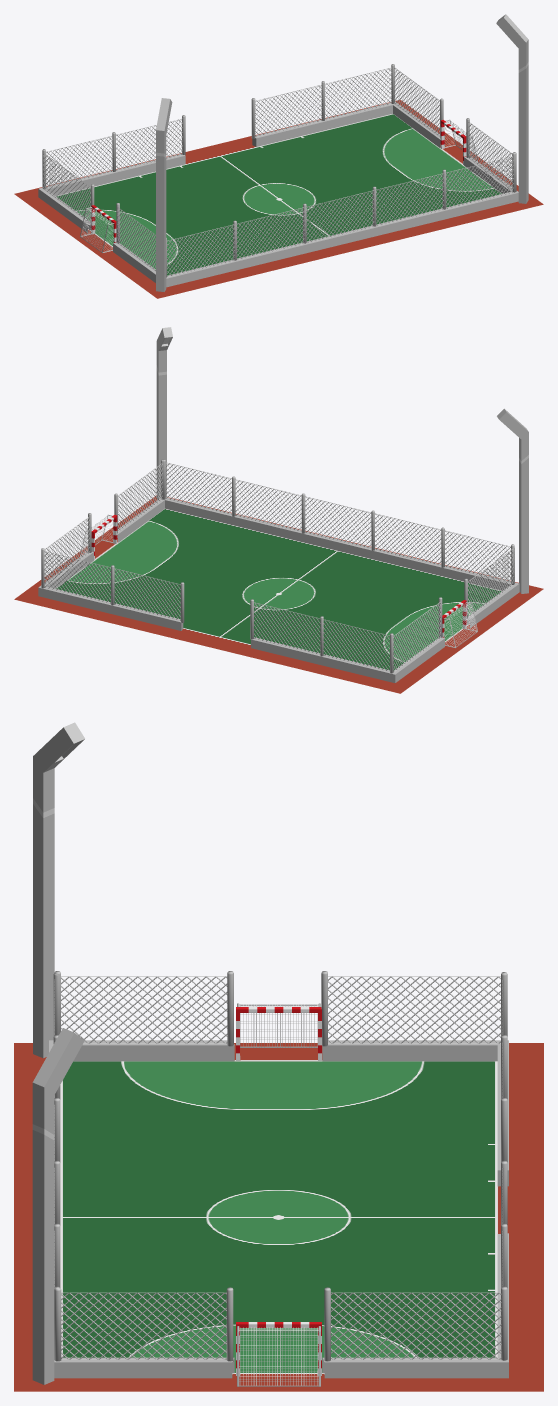
The model's file is Stadium.fbx.
3 renders of one model, top to bottom at view 1: azimuth 30°, elevation 25°; view 2: azimuth 150°, elevation 25°; view 3: azimuth 270°, elevation 25°, orthographic. The views are drawn at different scales.
Visible parts, largest first — view 1: Plane, Plane.001, Plane.003, Plane.006, Cube.008, Cube.007, Plane.007, Plane.004, Plane.002, Plane.005, Cylinder.001, Cylinder (+1 smaller); view 2: Plane, Plane.001, Plane.003, Plane.006, Cube.007, Cube.008, Plane.007, Plane.005, Plane.002, Plane.004, Cylinder.001, Cylinder (+1 smaller); view 3: Plane, Plane.001, Cube.008, Cube.007, Plane.004, Plane.007, Plane.002, Plane.005, Cube.004, Cylinder.001, Cube.001, Cylinder (+2 smaller).
Part boxes in pixels (left/top/right/bottom): Plane: left=14, top=100, right=543, bottom=298; Plane.001: left=38, top=101, right=518, bottom=287; Plane.003: left=167, top=156, right=513, bottom=277; Plane.006: left=46, top=67, right=391, bottom=187; Cube.008: left=496, top=14, right=528, bottom=203; Cube.007: left=156, top=98, right=172, bottom=291; Plane.007: left=43, top=153, right=90, bottom=222; Plane.004: left=394, top=68, right=439, bottom=136; Plane.002: left=468, top=122, right=512, bottom=189; Plane.005: left=117, top=207, right=155, bottom=271; Cylinder.001: left=42, top=64, right=394, bottom=188; Cylinder: left=166, top=152, right=515, bottom=277; Plane: left=14, top=495, right=543, bottom=693; Plane.001: left=38, top=497, right=519, bottom=682; Plane.003: left=165, top=462, right=510, bottom=582; Plane.006: left=44, top=551, right=389, bottom=671; Cube.007: left=497, top=408, right=528, bottom=593; Cube.008: left=156, top=327, right=172, bottom=500; Plane.007: left=393, top=602, right=440, bottom=672; Plane.005: left=468, top=548, right=514, bottom=617; Plane.002: left=118, top=463, right=162, bottom=531; Plane.004: left=44, top=517, right=89, bottom=585; Cylinder.001: left=41, top=548, right=393, bottom=673; Cylinder: left=163, top=459, right=444, bottom=567; Plane: left=14, top=1043, right=543, bottom=1391; Plane.001: left=49, top=1040, right=508, bottom=1378; Cube.008: left=32, top=1028, right=84, bottom=1384; Cube.007: left=33, top=722, right=84, bottom=1058; Plane.004: left=331, top=1292, right=501, bottom=1359; Plane.007: left=328, top=976, right=500, bottom=1043; Plane.002: left=61, top=1292, right=226, bottom=1359; Plane.005: left=61, top=976, right=227, bottom=1043; Cube.004: left=239, top=1327, right=318, bottom=1385; Cylinder.001: left=501, top=972, right=507, bottom=1360; Cube.001: left=239, top=1004, right=318, bottom=1047; Cylinder: left=53, top=973, right=60, bottom=1359.
Size of the model in its own units: 2870 by 1307 by 1844.
